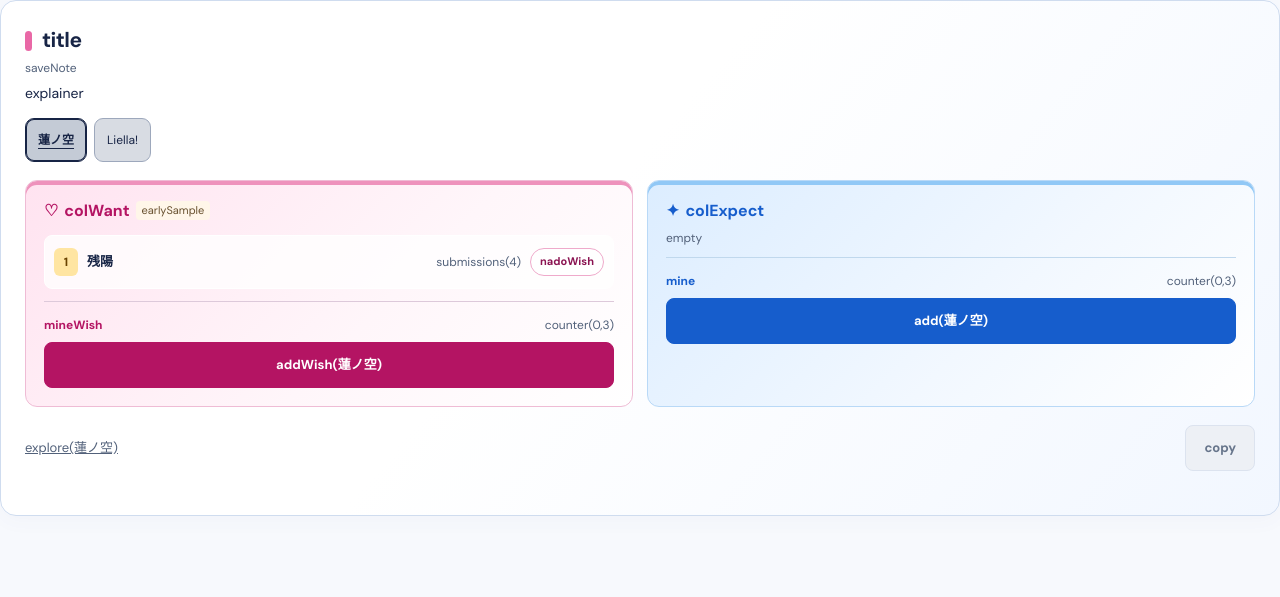
it: <FanBoardSection> one-tap 나도 on rows › adds through the wish route, checks the row, counts 1/3, tracks source=row, keeps the public count
Click the button with test id "board-nado". click: (567, 262)
box: [530,248,604,276]
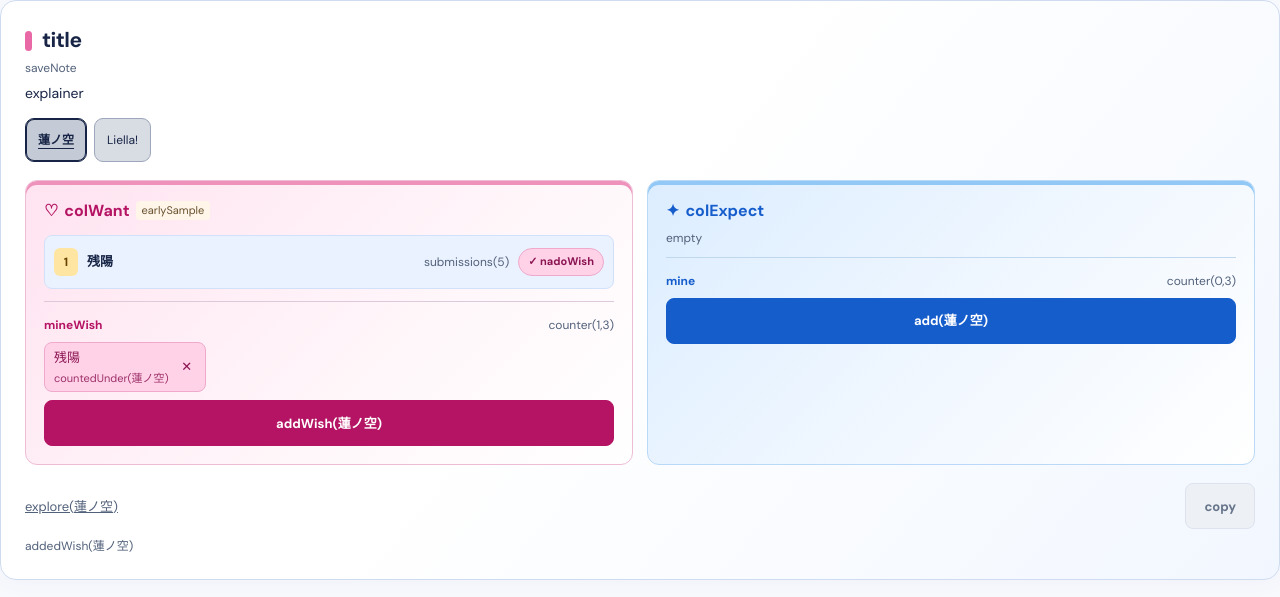
Result: the message with test id "board-toast" reads "addedWish(蓮ノ空)" at [25,538,133,554]
Result: the text with test id "board-pick-counter" reads "counter(1,3)" at [548,316,614,332]
Result: the link "残陽" below "mineWish" is shown at [54,348,80,366]
